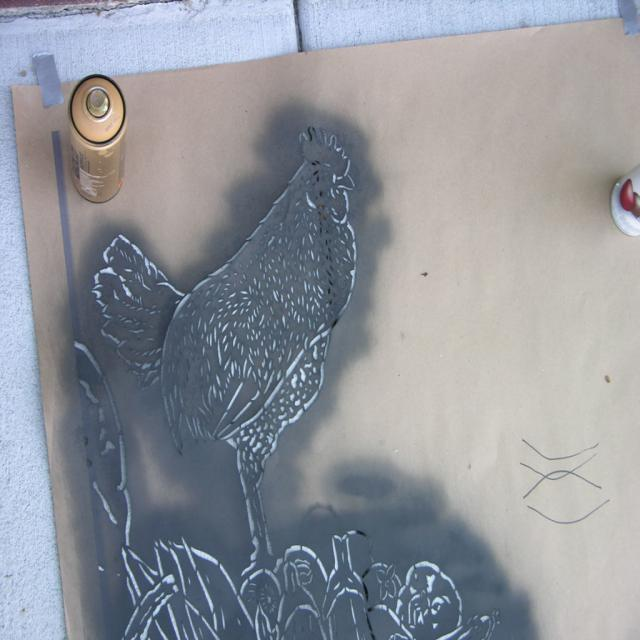Chicken: (145, 113, 352, 592)
